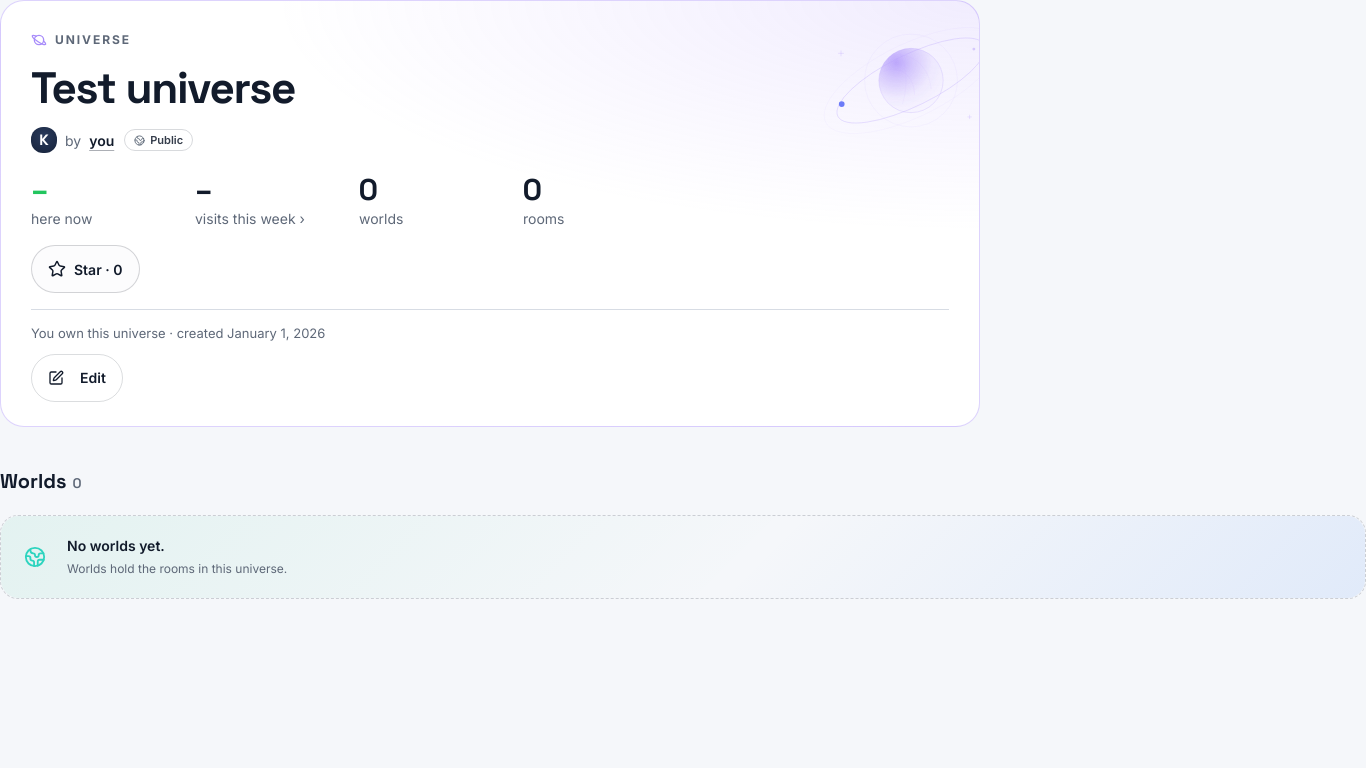
Test: a universe that never says shows it on, as a universe made today starts
The width and height of the screenshot is (1366, 768).
Click the button "Edit" at (77, 378), box [31,354,123,402]
(page scrolled)
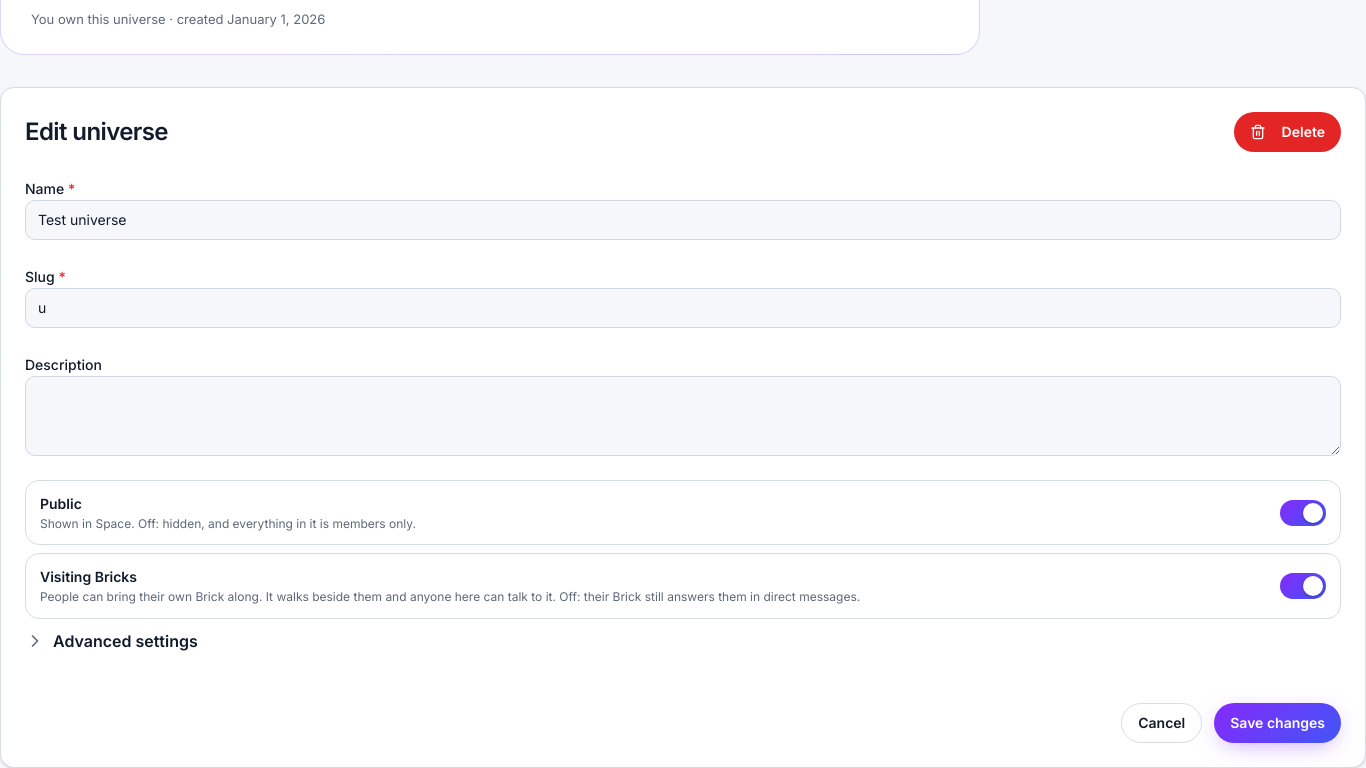
Expected: the switch named "Visiting Bricks" in the row of "Visiting Bricks" is checked, [1280,573,1326,599]
